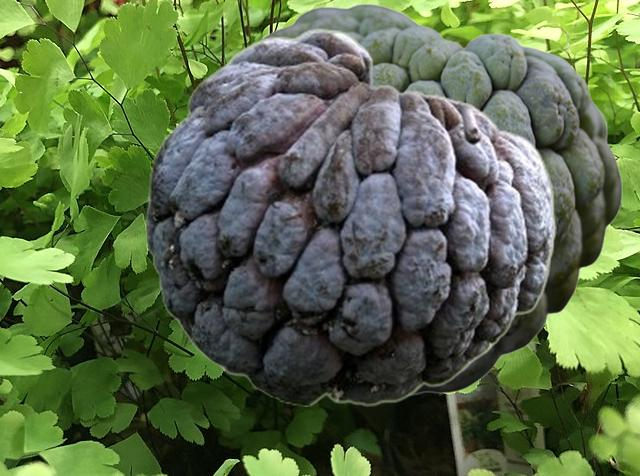atis: (145, 27, 555, 405), (261, 3, 621, 396)
